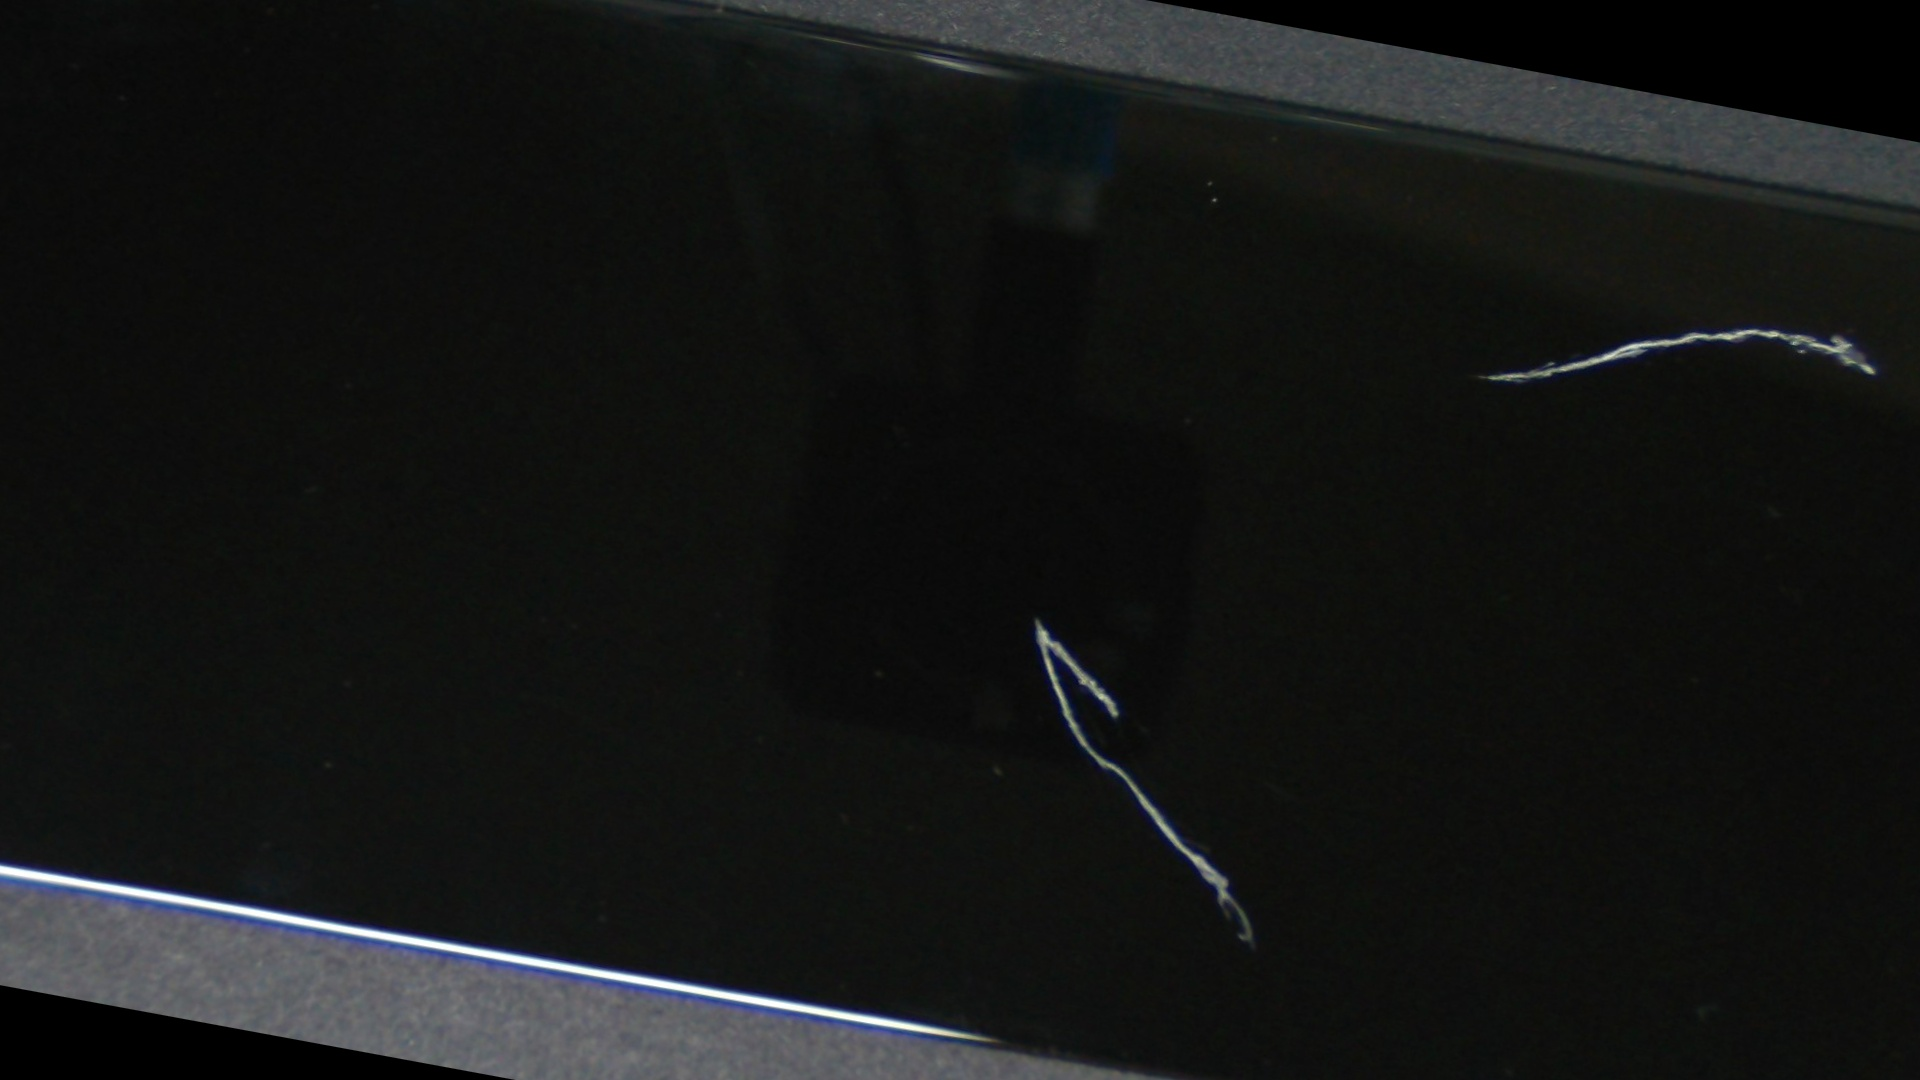oil: (372, 196, 1704, 1038), (851, 55, 1920, 489)
